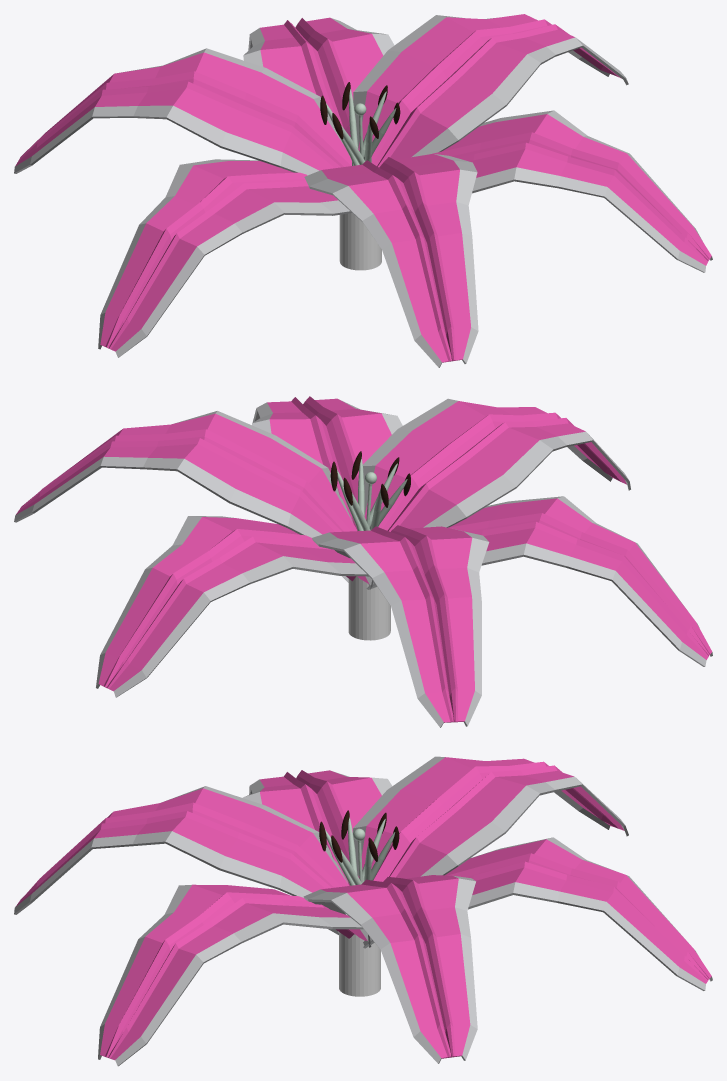
Rendered from Flower.fbx.
3 views of the same model, one above another, from view 1: azimuth 30°, elevation 25°; view 2: azimuth 150°, elevation 25°; view 3: azimuth 270°, elevation 25° (orthographic).
Parts seen in each view (by area): view 1: Flower, Cylinder; view 2: Flower, Cylinder; view 3: Flower, Cylinder.
Boxes of the visible parts, <box> form: Flower: <box>14,14,712,367</box>; Cylinder: <box>339,213,381,270</box>; Flower: <box>14,396,712,727</box>; Cylinder: <box>348,576,390,640</box>; Flower: <box>14,756,712,1066</box>; Cylinder: <box>339,932,380,996</box>.
Bounding box in the file's own units: 0.1218 × 0.0341 × 0.1217.
